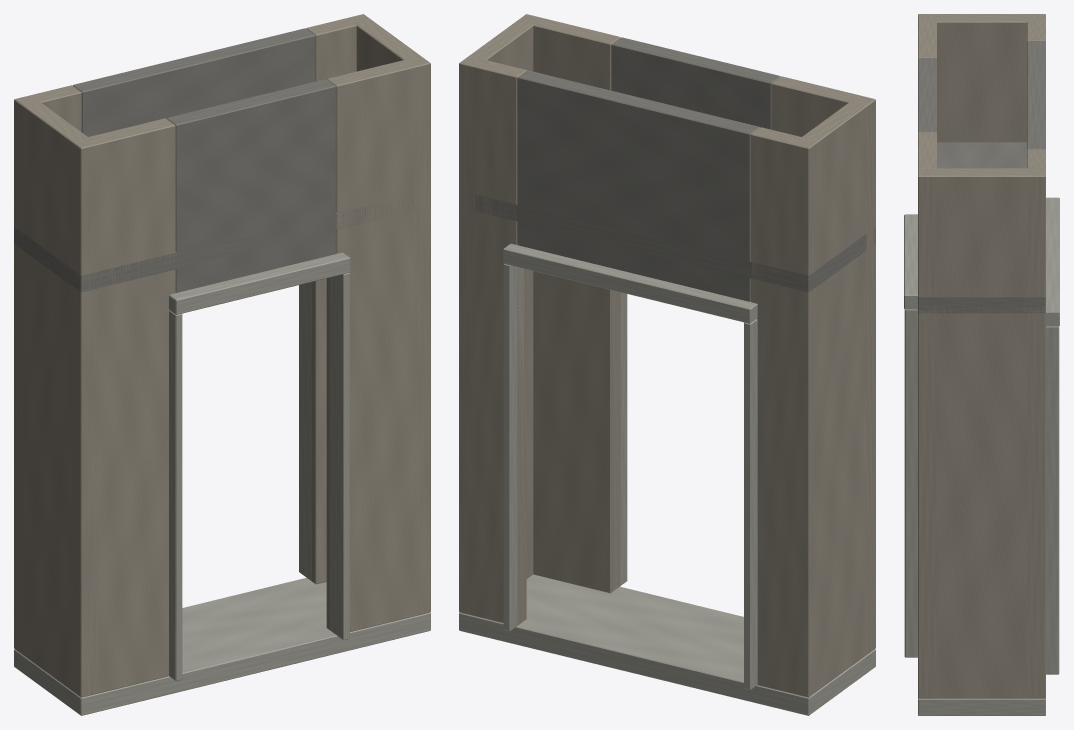
Rendered from A01_ResidentialAdapter_visual.glb.
3 renders of one model, left to right at view 1: azimuth 30°, elevation 25°; view 2: azimuth 150°, elevation 25°; view 3: azimuth 270°, elevation 25°, orthographic. The views are drawn at different scales.
Visible parts, largest first — view 1: A01_ResidentialAdapter__VIS_shell, A01_ResidentialAdapter__VIS_roof; view 2: A01_ResidentialAdapter__VIS_shell, A01_ResidentialAdapter__VIS_roof; view 3: A01_ResidentialAdapter__VIS_shell, A01_ResidentialAdapter__VIS_roof.
Boxes of the visible parts, x1,y1,x2,y2 form: A01_ResidentialAdapter__VIS_shell: (14, 14, 430, 715); A01_ResidentialAdapter__VIS_roof: (14, 192, 430, 292); A01_ResidentialAdapter__VIS_shell: (459, 14, 875, 715); A01_ResidentialAdapter__VIS_roof: (460, 192, 875, 292); A01_ResidentialAdapter__VIS_shell: (904, 14, 1059, 715); A01_ResidentialAdapter__VIS_roof: (918, 142, 1045, 313).
Size of the model in its own units: 12 by 18.6 by 4.86.
1 material, 1 textured.
